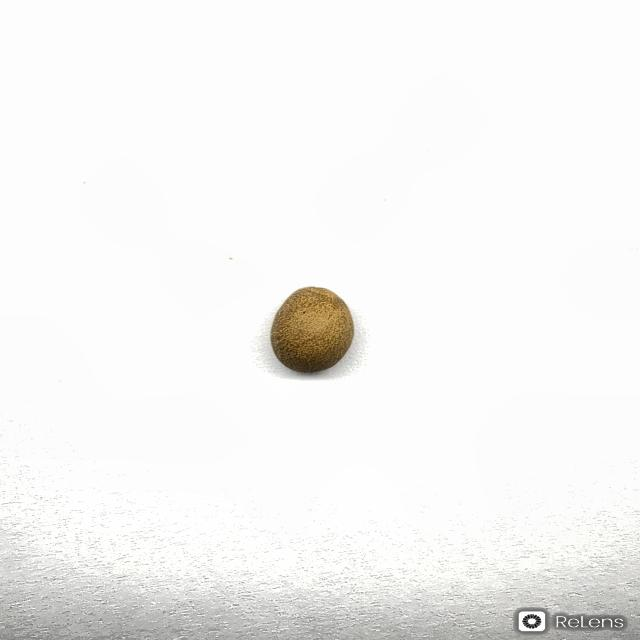Quaker: (269, 285, 355, 373)
